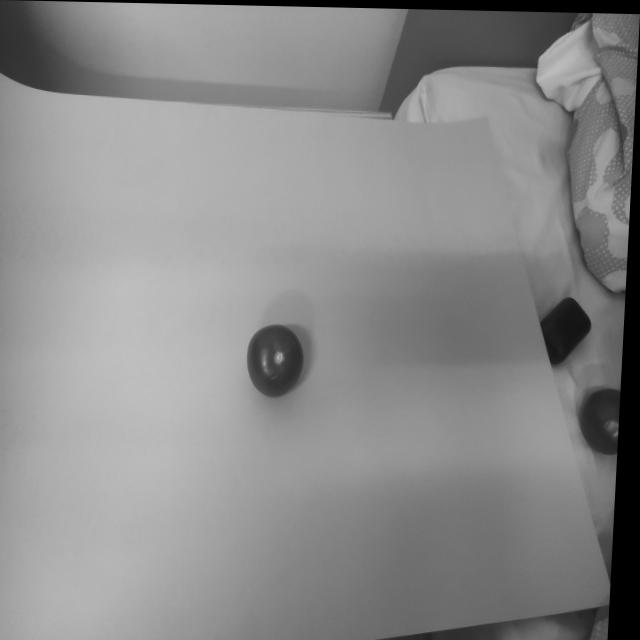kirmizi: (240, 305, 338, 406)
